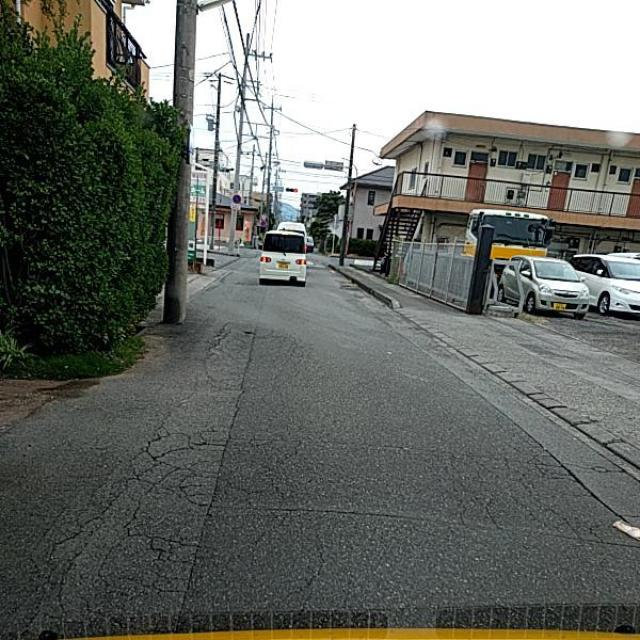Crack: (395, 296, 640, 615), (149, 289, 283, 636)
